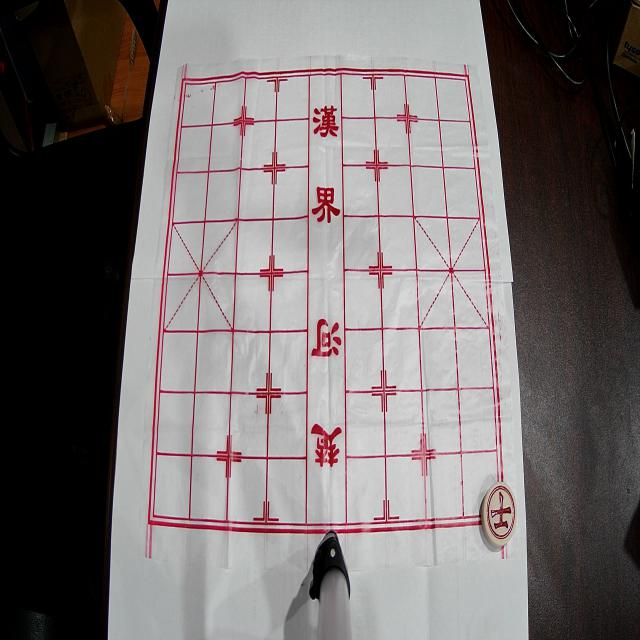red-guard: (481, 482, 517, 548)
